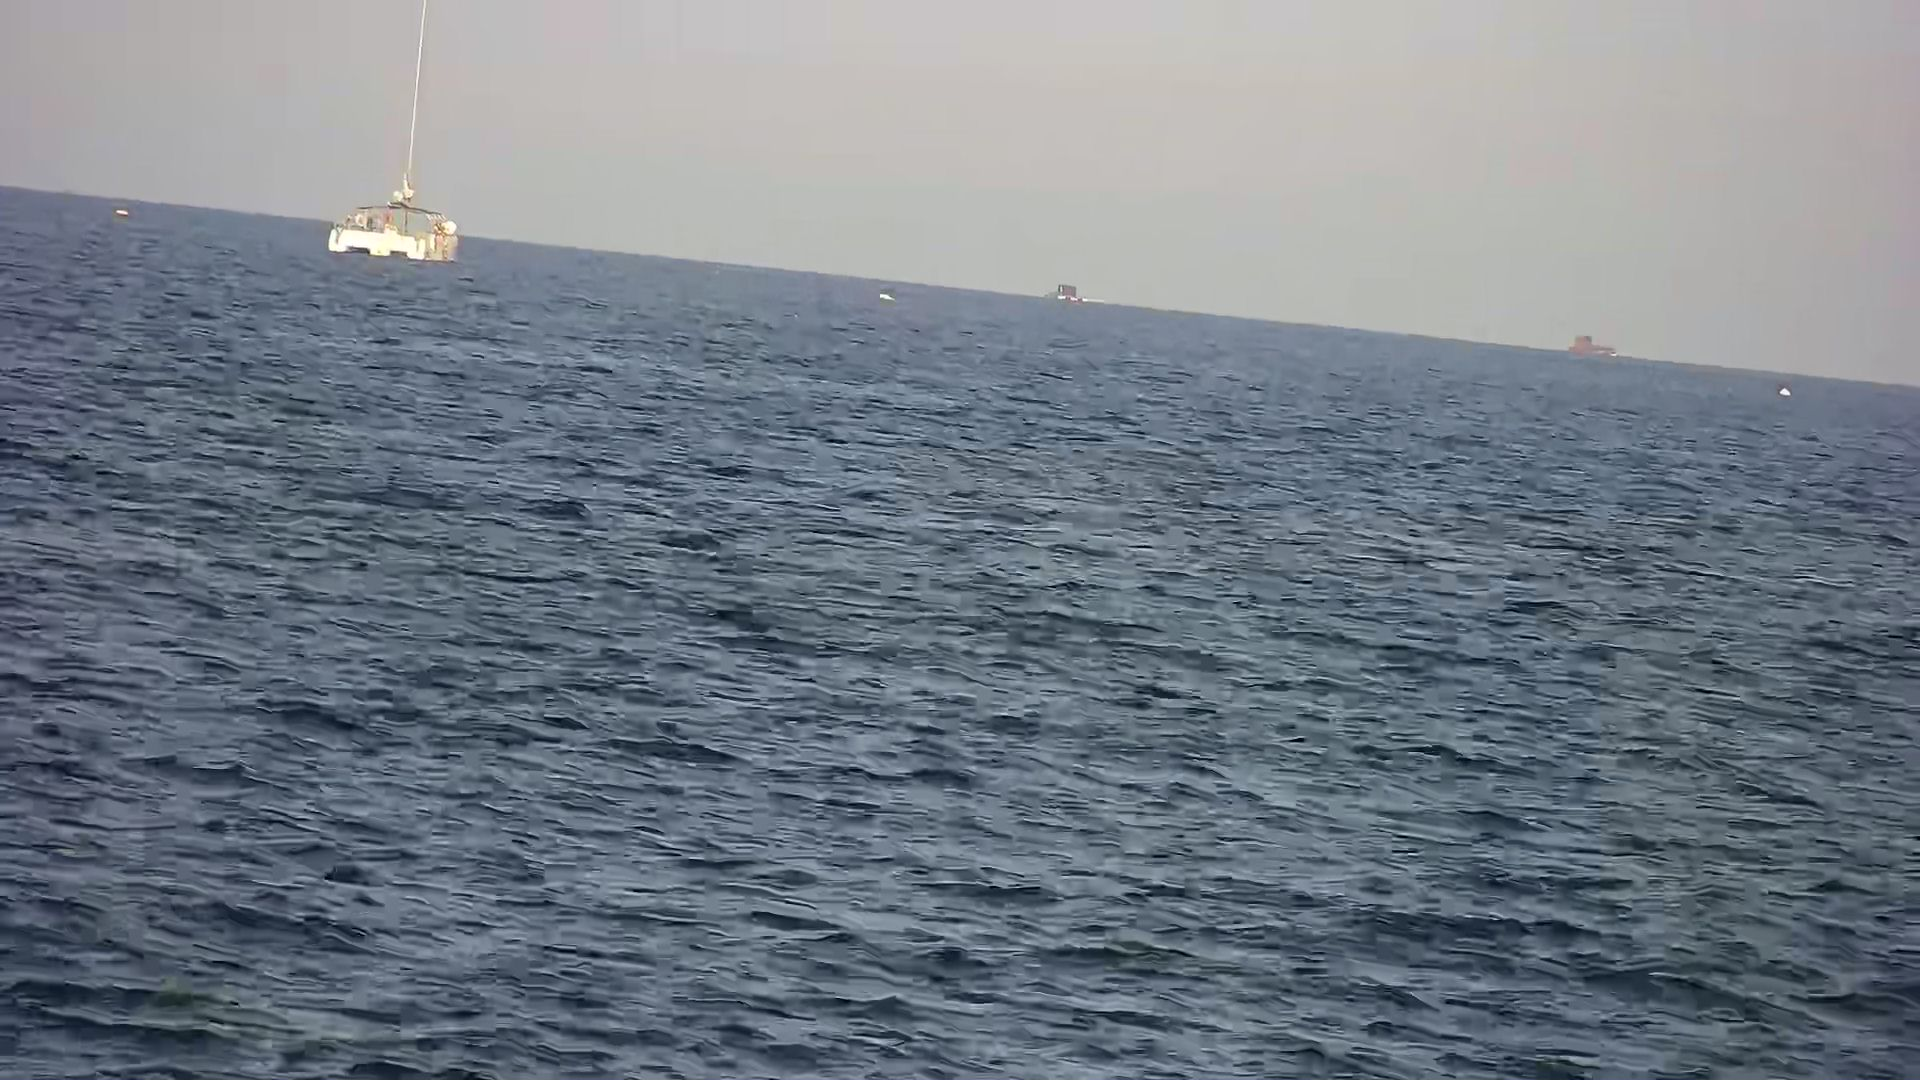platform: (316, 1, 468, 261), (1549, 328, 1629, 373), (1044, 284, 1089, 311)
